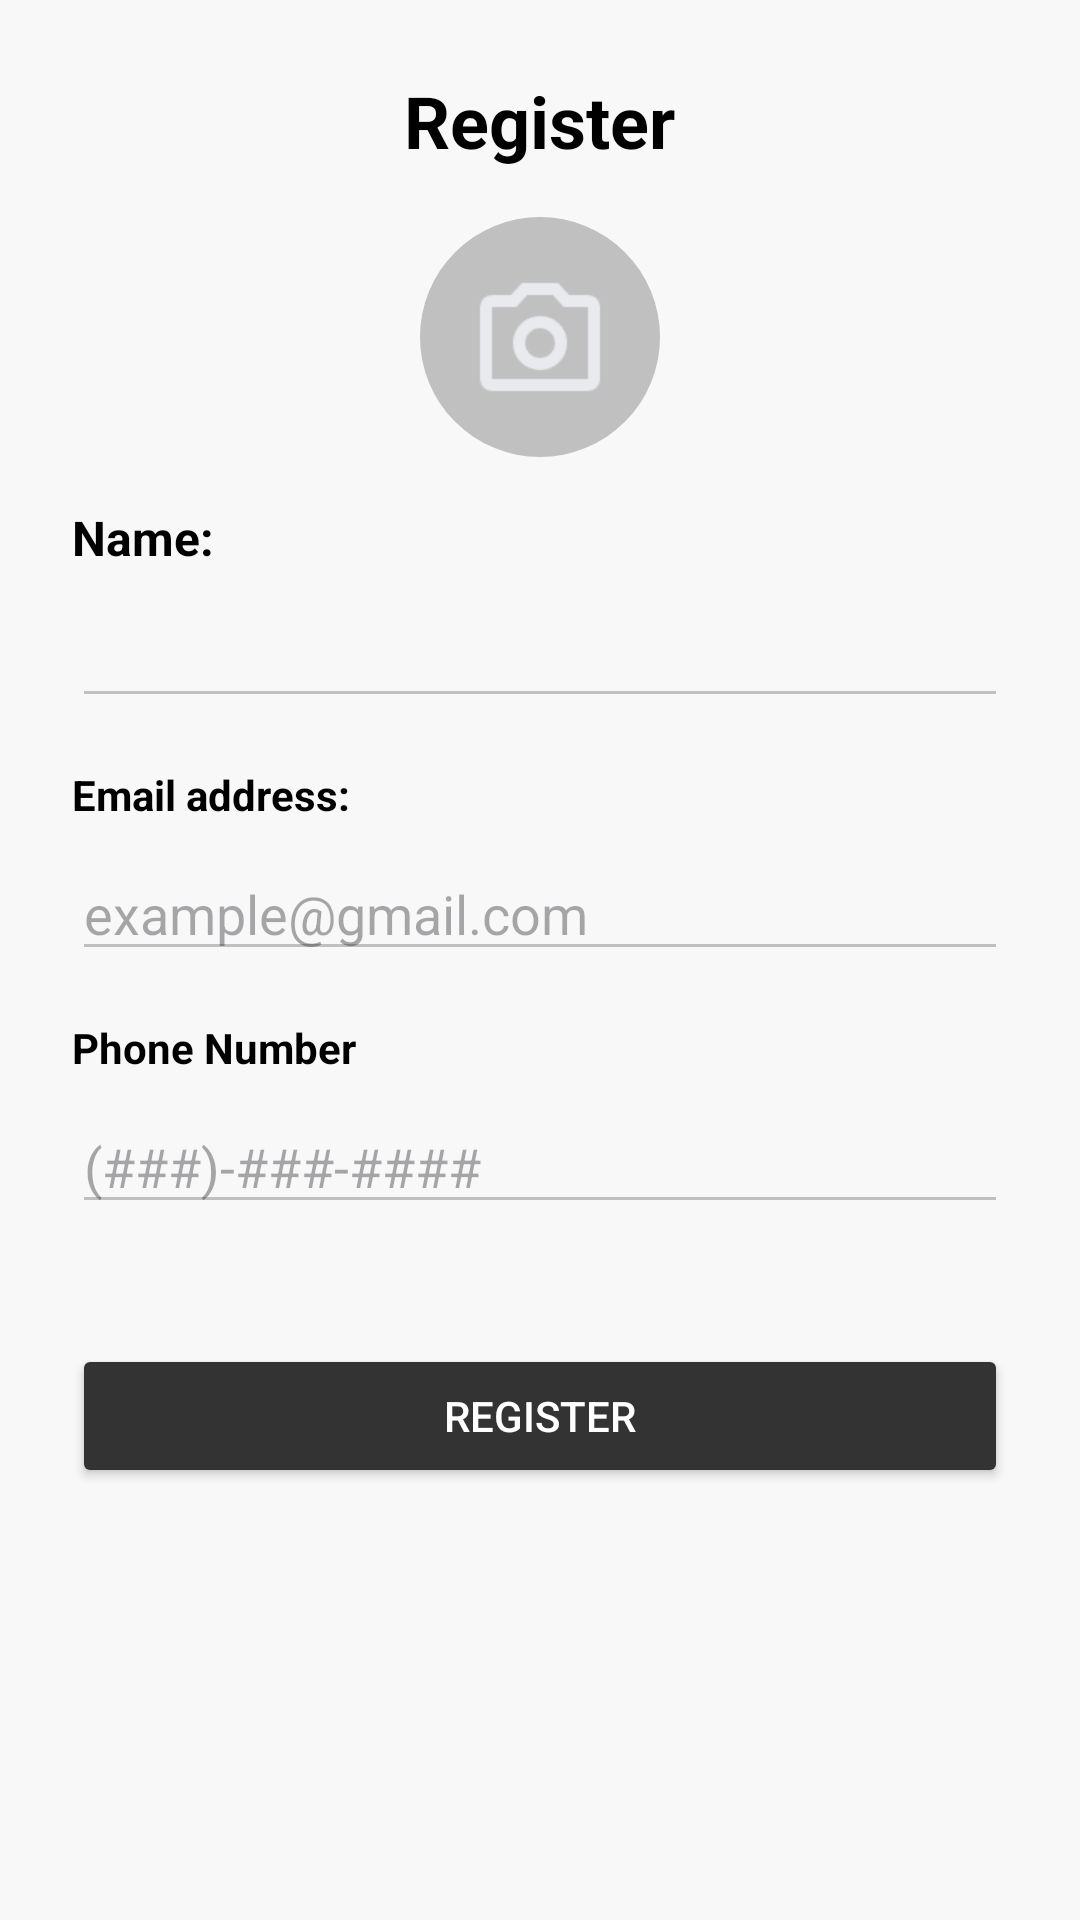

Where to tap for icons on this 1080x1920 app screen, as (x=x, y=y):
Profile Picture: (x=540, y=337)
